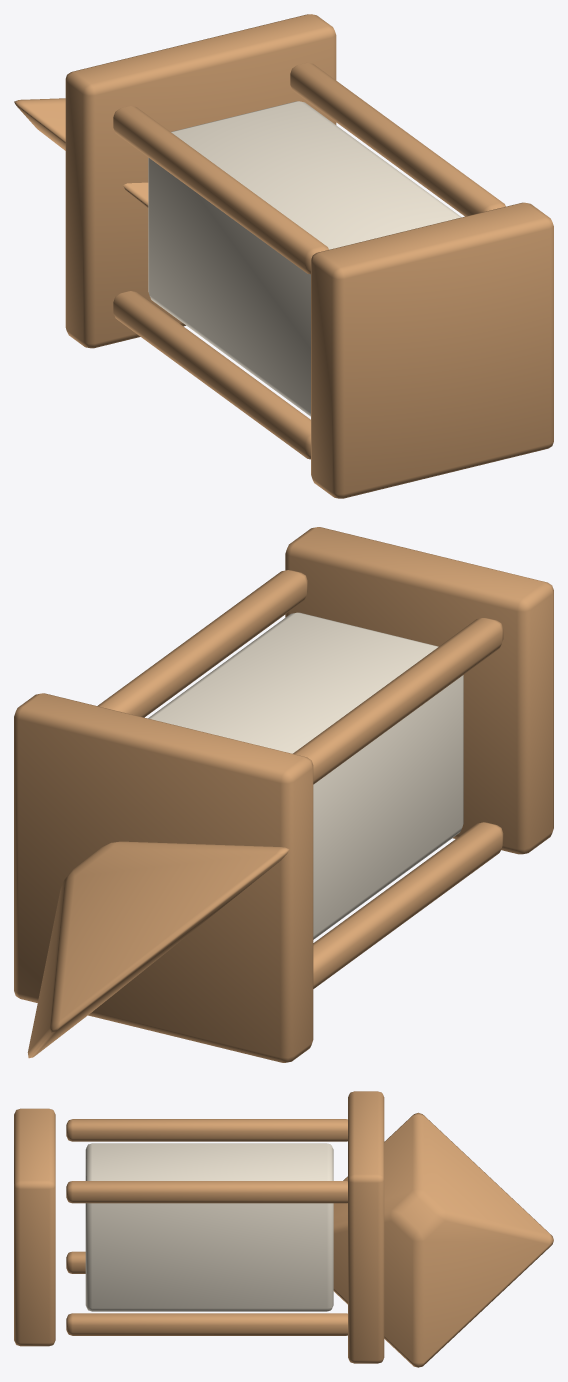
File: lantern.glb
The picture shows the model from 3 angles, top to bottom: view 1: azimuth 30°, elevation 25°; view 2: azimuth 150°, elevation 25°; view 3: azimuth 270°, elevation 25°; orthographic projection. The views are drawn at different scales.
Visible parts, largest first — view 1: lantern; view 2: lantern; view 3: lantern.
Part boxes in pixels (x1,y1,x2,y2): lantern: (14,14,553,498); lantern: (14,527,553,1062); lantern: (14,1091,553,1367).
Bounding box in the file's own units: 0.87 × 0.87 × 2.07.
